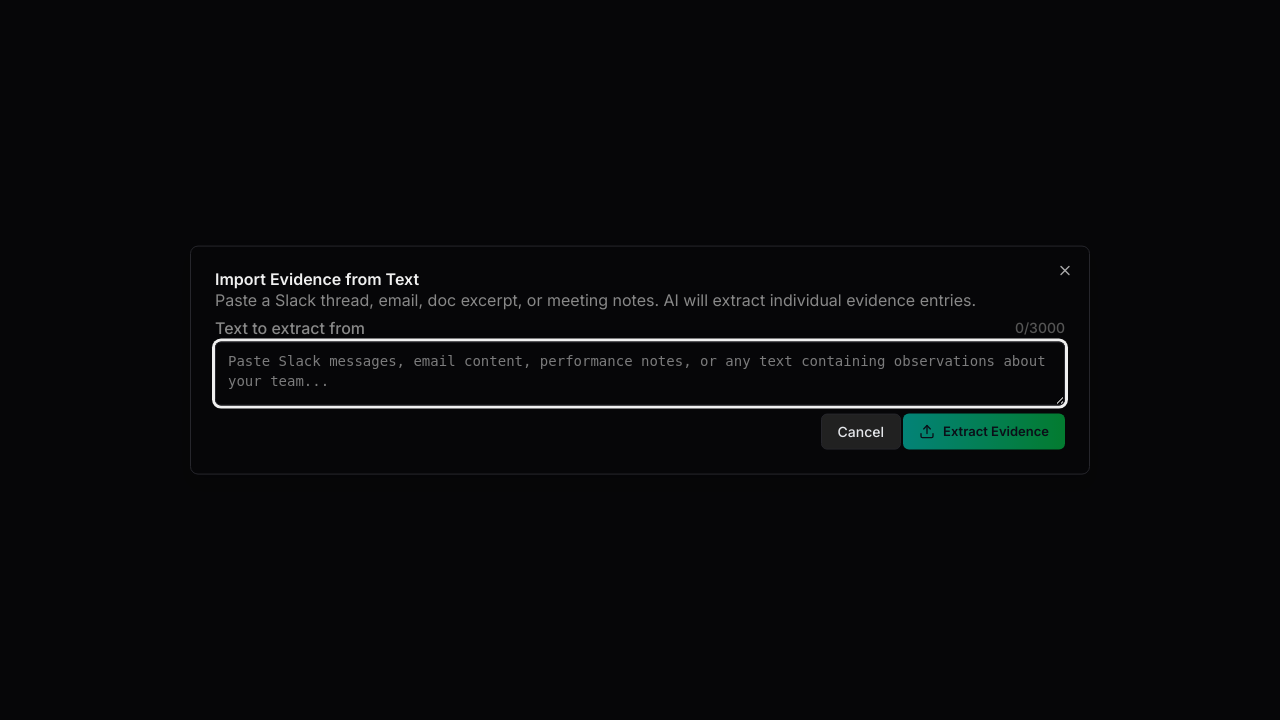
BatchEvidenceImportModal › shows empty state message when AI returns empty array
Replace the text in the text box with placeholder "Paste Slack messages" with "Generic text with no specifics." at (640, 373), box 215,341 -> 1065,405
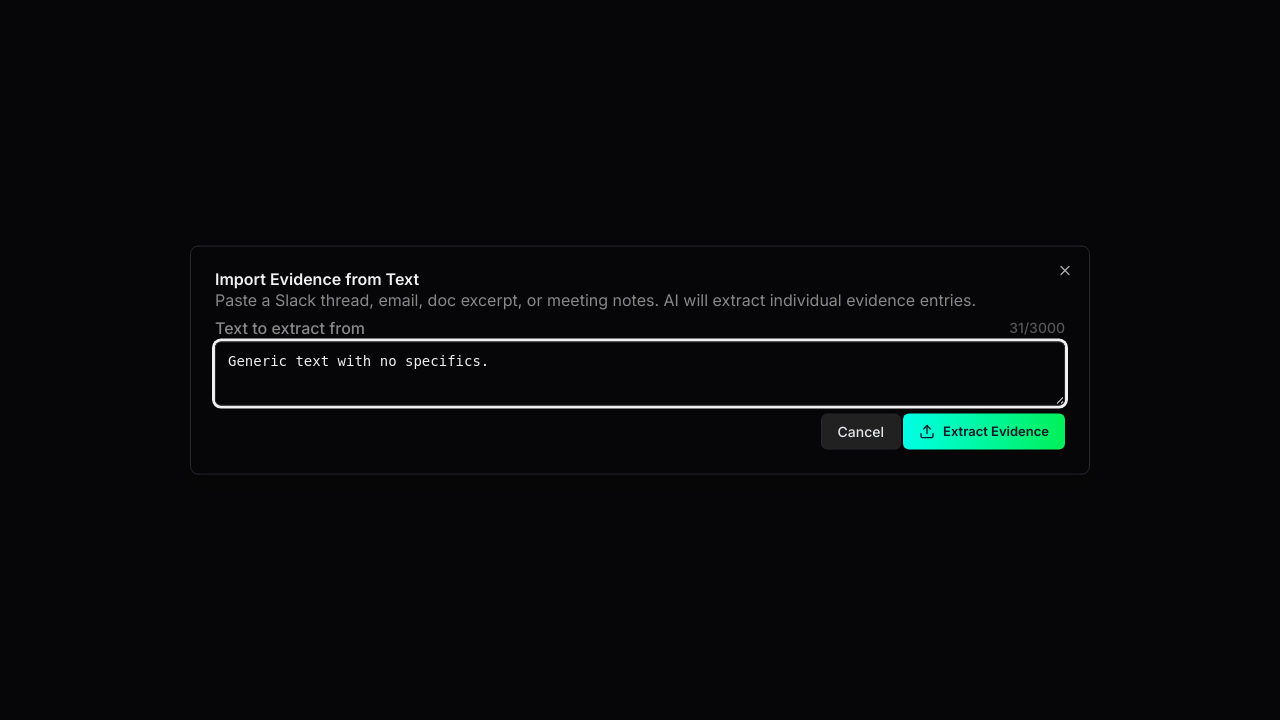
Click the button "Extract Evidence" at (984, 431), box 903,413 -> 1065,449
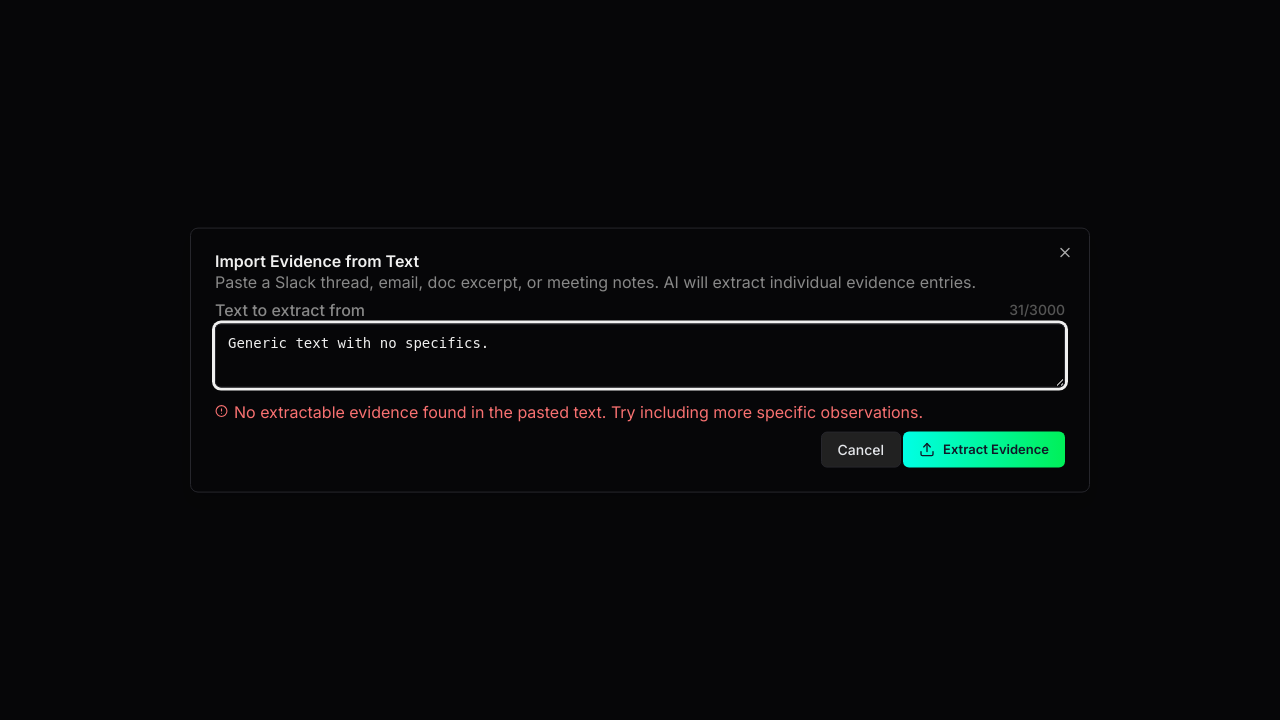
Check: the text "No extractable evidence found" is shown, box 234,401 -> 923,421
